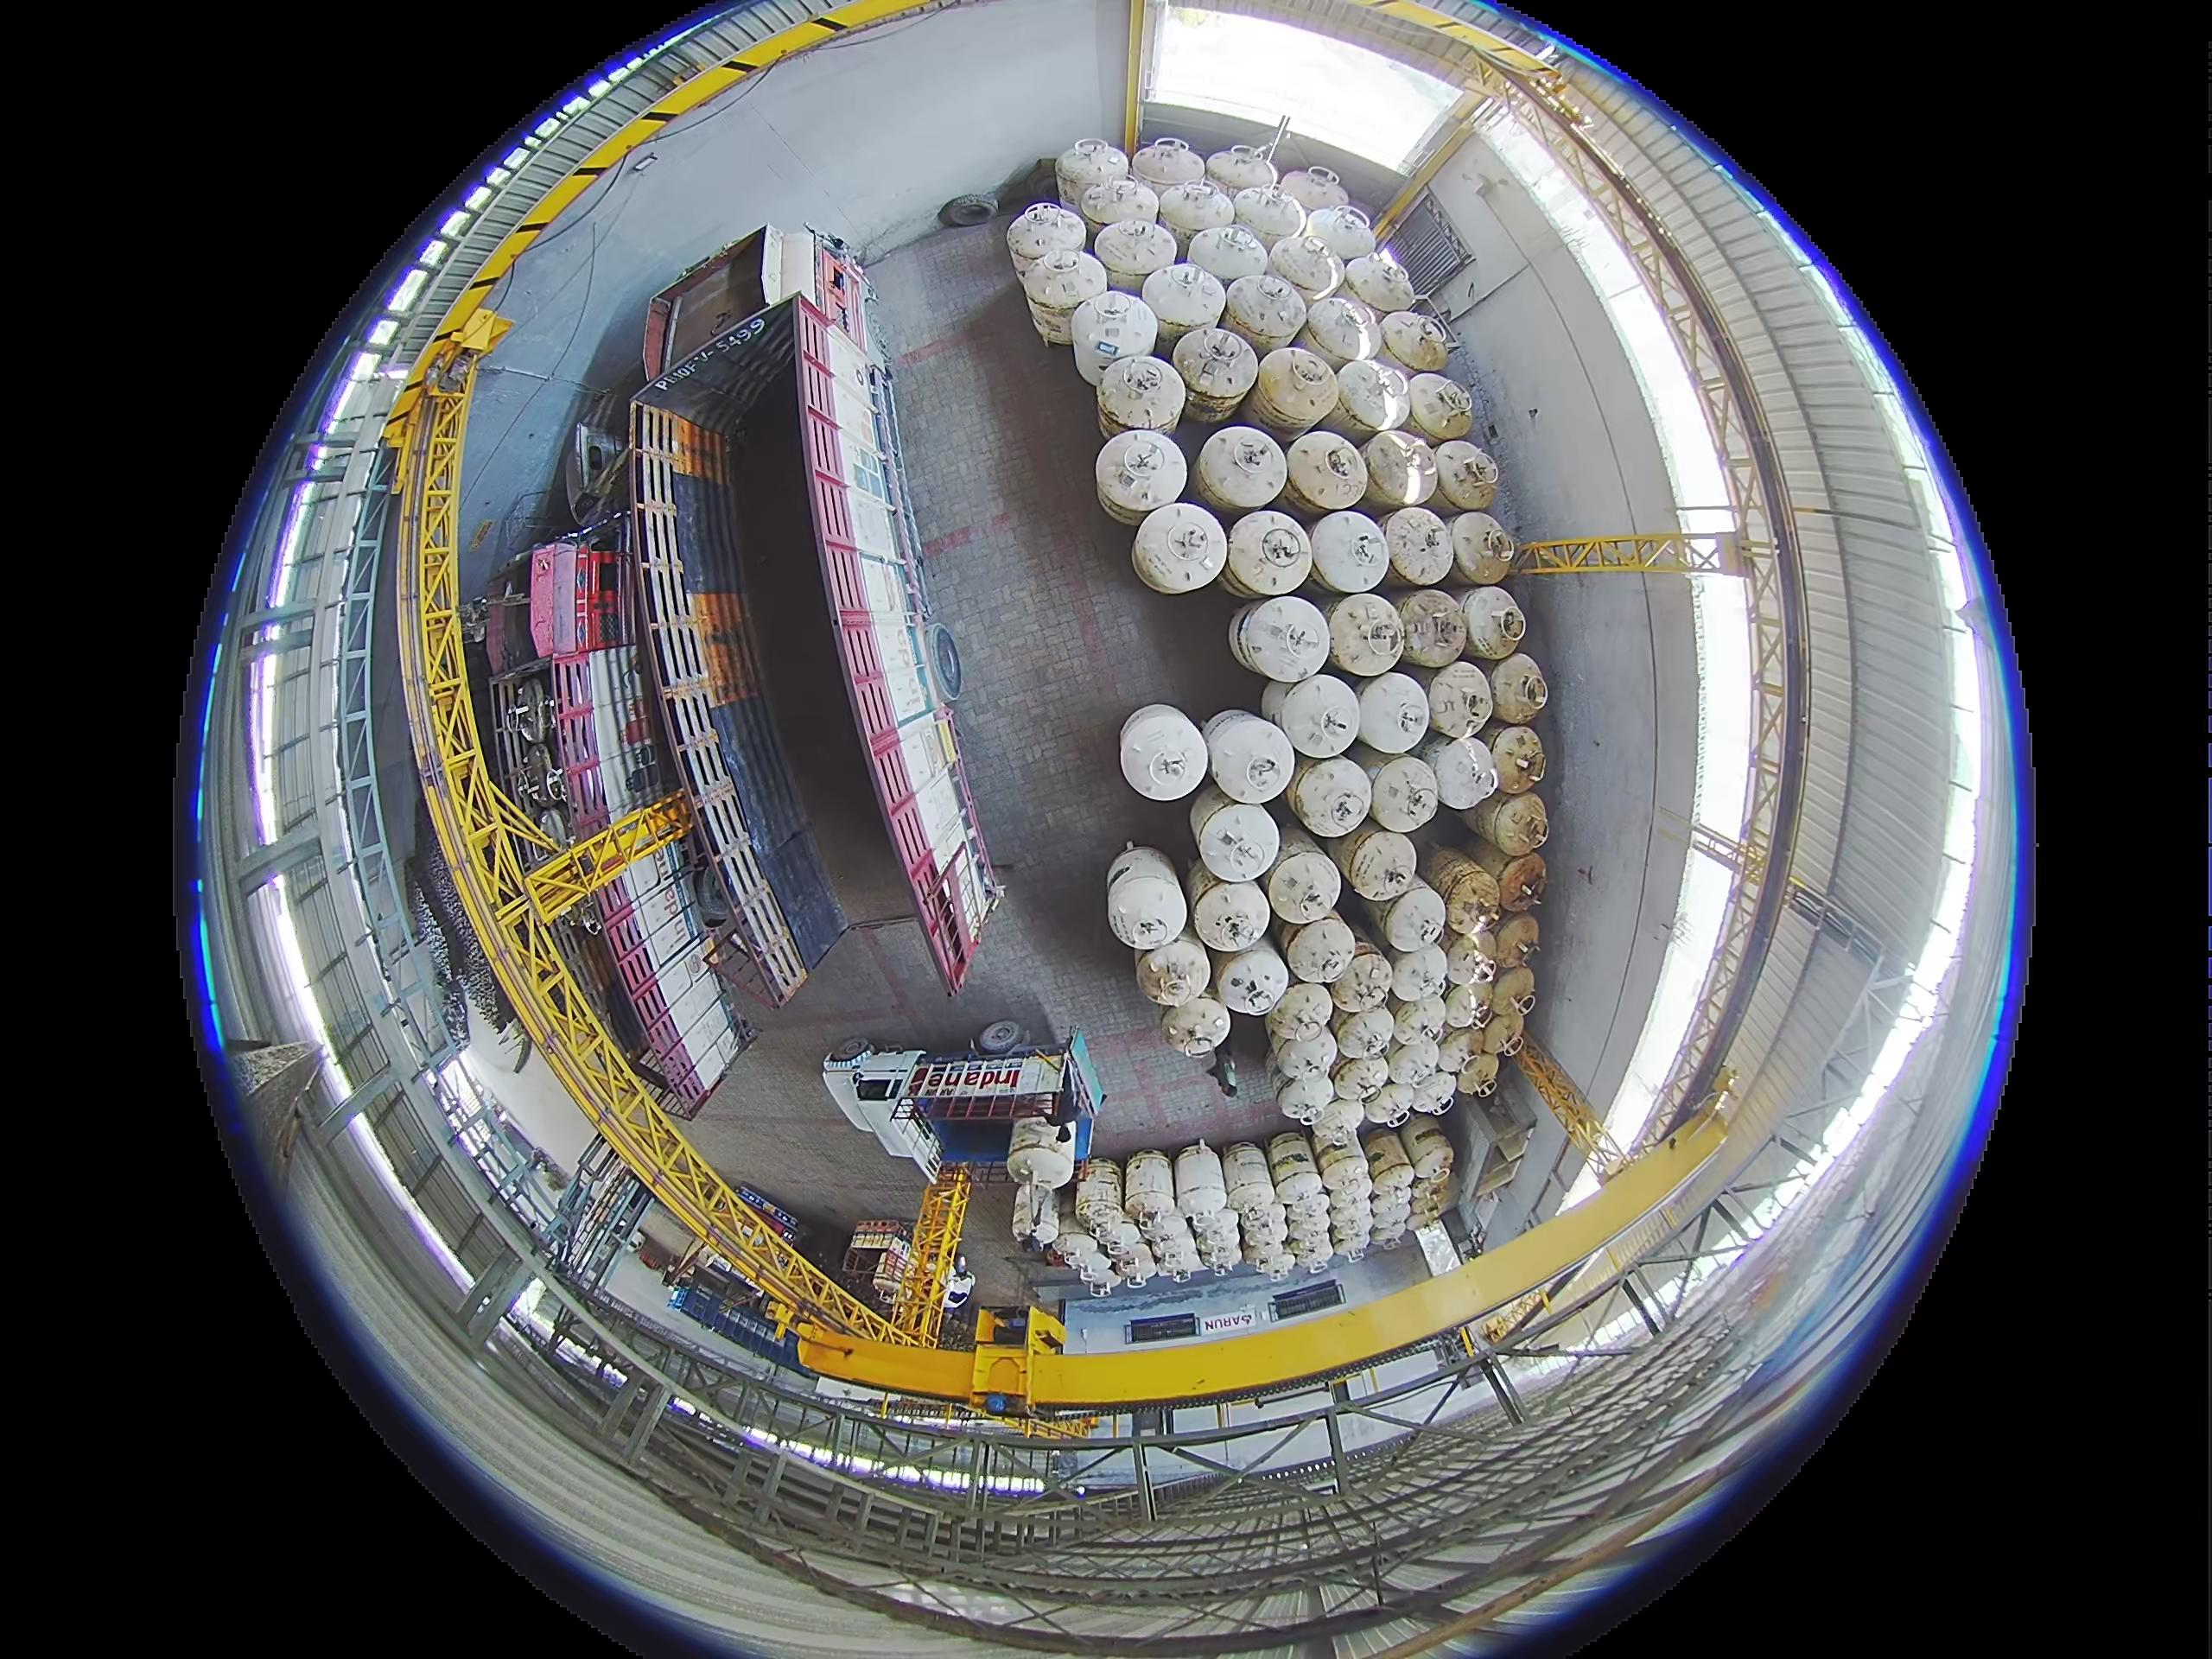cylinder: (1084, 670, 1208, 826), (1205, 711, 1297, 806), (1095, 429, 1186, 525), (1095, 358, 1182, 458), (1131, 503, 1226, 593), (1235, 594, 1329, 684), (1198, 425, 1289, 517), (1275, 671, 1364, 762), (1252, 346, 1340, 435), (1224, 512, 1313, 597), (1172, 325, 1259, 411), (1194, 800, 1283, 885), (1285, 430, 1370, 519), (1014, 250, 1092, 343), (1288, 756, 1373, 841), (1070, 289, 1151, 378), (1141, 262, 1226, 346), (1221, 272, 1308, 353), (1309, 508, 1391, 594), (1333, 823, 1414, 905), (1363, 429, 1441, 513), (1325, 594, 1406, 676), (1331, 356, 1410, 439), (1263, 848, 1344, 928), (1191, 876, 1274, 954), (1355, 672, 1432, 756), (1366, 754, 1442, 835), (1301, 293, 1382, 369), (1395, 589, 1470, 669), (1383, 505, 1458, 586), (1189, 221, 1274, 291), (1427, 732, 1502, 811), (1156, 179, 1236, 253), (1283, 915, 1361, 989), (1426, 659, 1497, 740), (1094, 219, 1174, 290), (1424, 848, 1497, 925), (1267, 232, 1345, 303), (1470, 786, 1548, 858), (1216, 945, 1290, 1019), (1134, 938, 1210, 1010), (1056, 139, 1130, 209), (1006, 202, 1083, 270), (1405, 372, 1474, 446), (1380, 310, 1452, 380), (1460, 586, 1528, 660), (1232, 187, 1306, 254), (1080, 180, 1155, 246), (1450, 511, 1518, 583), (1382, 880, 1450, 954), (1015, 1207, 1082, 1280), (1129, 137, 1205, 200), (1304, 204, 1377, 269), (1342, 252, 1416, 316), (1433, 440, 1500, 511), (1267, 980, 1337, 1046), (1161, 993, 1232, 1058), (1485, 724, 1548, 796), (1487, 652, 1548, 724), (1206, 143, 1278, 200), (1328, 950, 1394, 1014), (1173, 1145, 1231, 1216), (1270, 820, 1335, 883), (1387, 947, 1449, 1008), (1332, 1007, 1395, 1065), (1269, 1031, 1333, 1089), (1280, 168, 1350, 219), (1384, 1035, 1444, 1095), (1272, 1070, 1335, 1126), (1442, 937, 1497, 996), (1497, 852, 1549, 914), (1192, 1212, 1244, 1274), (1222, 1142, 1274, 1204), (1400, 1122, 1454, 1180), (1266, 1131, 1318, 1191), (1185, 856, 1232, 921), (1309, 1096, 1367, 1148), (1360, 1129, 1411, 1188), (1325, 1192, 1372, 1255), (1471, 1145, 1522, 1203), (1332, 1056, 1389, 1107), (1473, 1007, 1527, 1060), (1488, 963, 1536, 1020), (1319, 1154, 1371, 1207), (1260, 677, 1305, 739), (1493, 914, 1541, 970), (1441, 982, 1494, 1033), (1084, 1217, 1145, 1259), (1363, 1082, 1419, 1126), (1406, 1183, 1454, 1230), (1408, 1071, 1458, 1117), (1436, 1027, 1480, 1076), (1367, 1197, 1413, 1242), (1141, 1156, 1173, 1222), (1458, 1050, 1500, 1095), (1090, 1268, 1127, 1308), (1150, 1221, 1180, 1249)
truck: (620, 180, 1014, 1004), (540, 595, 739, 1103), (830, 1007, 1125, 1207), (509, 541, 644, 873), (978, 1129, 1109, 1209)
